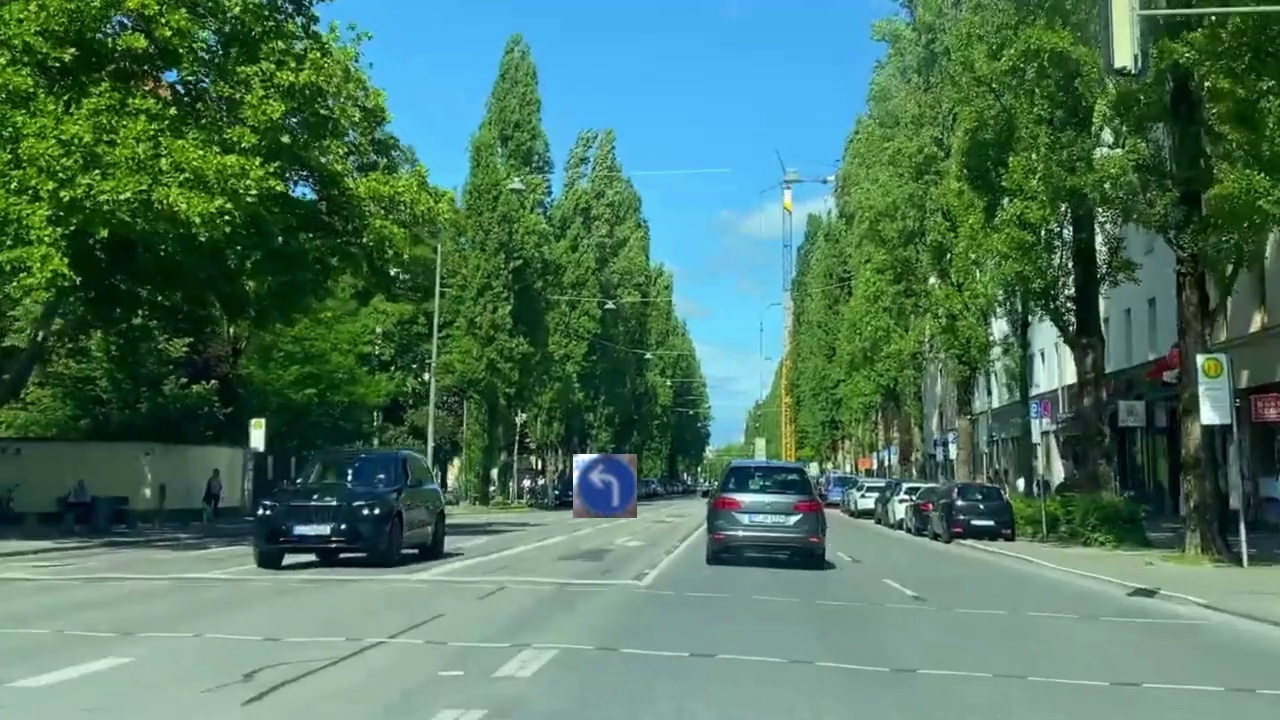Turn left: (573, 454, 637, 518)
